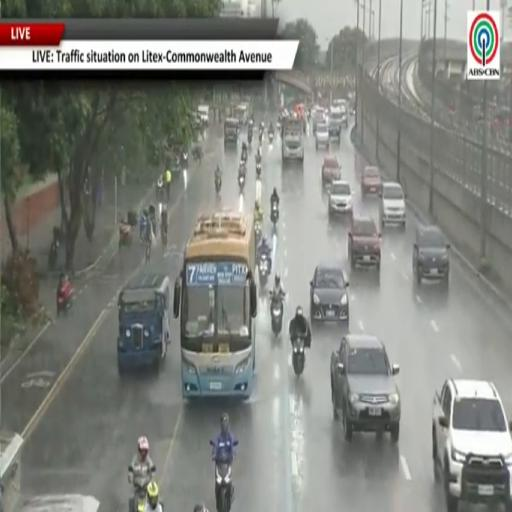bus: (174, 211, 257, 398)
car: (432, 379, 511, 511), (331, 334, 401, 442), (310, 265, 348, 323), (413, 226, 450, 285), (348, 216, 381, 271), (379, 182, 405, 228), (328, 181, 353, 218), (322, 154, 341, 187), (361, 166, 381, 197), (329, 107, 342, 140), (315, 123, 329, 149), (313, 107, 326, 135)
jeepney: (117, 275, 170, 374), (224, 117, 240, 146), (234, 103, 249, 126)
motorcycle: (129, 466, 155, 511), (215, 451, 233, 511), (48, 227, 64, 270), (57, 280, 73, 315), (270, 292, 283, 335), (292, 336, 305, 376), (258, 252, 270, 286), (118, 221, 132, 247), (48, 239, 59, 270), (270, 202, 279, 229), (149, 205, 157, 235), (156, 176, 164, 202), (160, 226, 168, 252), (180, 152, 188, 170), (255, 222, 261, 245), (239, 173, 245, 193), (215, 178, 221, 194), (256, 162, 262, 178), (248, 130, 253, 145), (276, 122, 282, 133), (242, 150, 247, 163), (269, 132, 273, 143), (259, 131, 263, 142)
truck: (0, 431, 23, 511), (282, 118, 304, 163)
